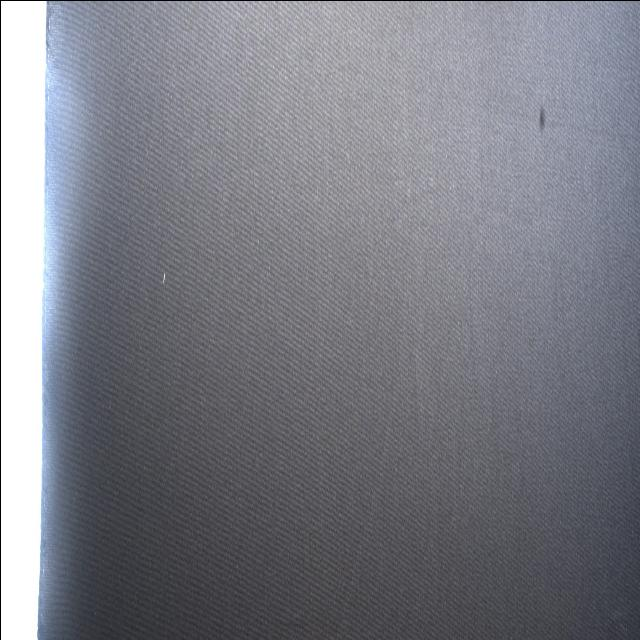crease: (336, 365, 399, 640)
whiteDefect: (161, 263, 166, 287)
